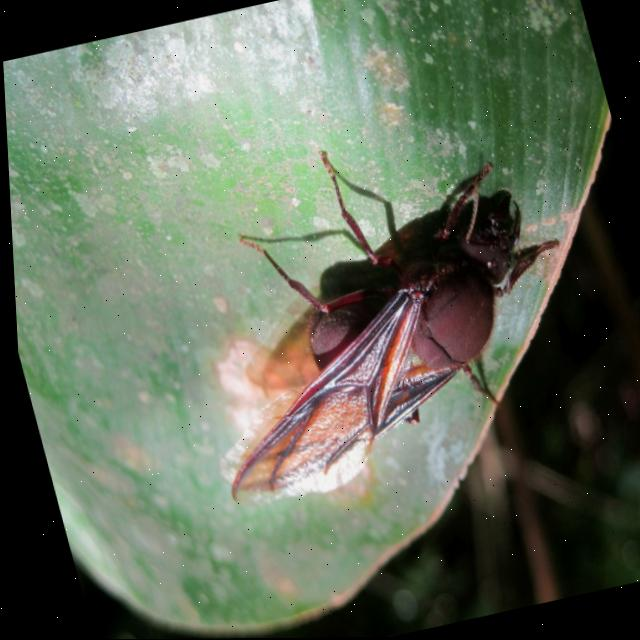Alive-Female-Alate: (142, 108, 608, 510)
